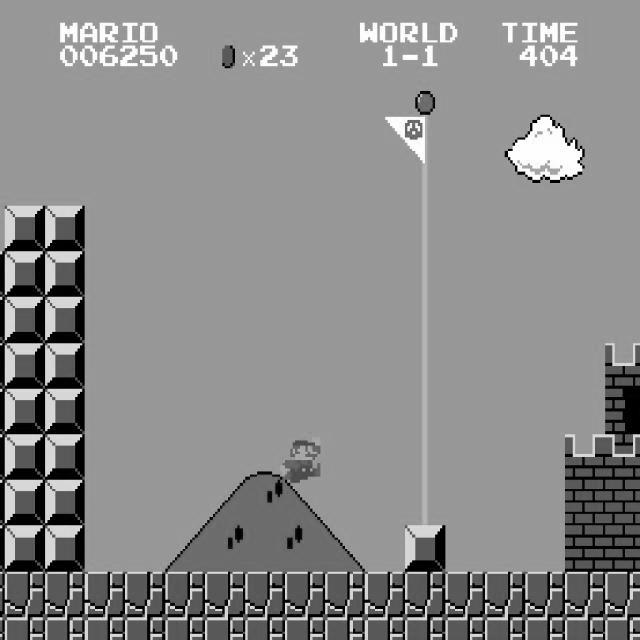11- little_mario: (277, 434, 320, 482)
17- undestructible_block: (44, 572, 86, 618), (84, 572, 126, 618), (124, 572, 166, 618), (164, 572, 206, 618), (204, 572, 246, 618), (244, 572, 286, 618), (284, 572, 326, 618), (324, 572, 366, 618), (364, 572, 406, 618), (404, 572, 446, 618), (444, 572, 486, 618), (484, 572, 526, 618), (524, 572, 566, 618), (564, 572, 606, 618), (5, 572, 46, 618), (605, 572, 640, 618), (44, 617, 86, 640), (84, 617, 126, 640), (124, 617, 166, 640), (164, 617, 206, 640), (204, 617, 246, 640), (244, 617, 286, 640), (284, 617, 326, 640), (324, 617, 366, 640), (364, 617, 406, 640), (404, 617, 446, 640), (444, 617, 486, 640), (484, 617, 526, 640), (524, 617, 566, 640), (564, 617, 606, 640), (5, 617, 46, 640), (605, 617, 640, 640), (0, 572, 5, 618), (0, 617, 5, 640)
7- goal_pole: (404, 68, 446, 114), (404, 114, 446, 160), (404, 160, 446, 206), (404, 252, 446, 298), (404, 297, 446, 343), (404, 388, 446, 434), (404, 434, 446, 480), (404, 480, 446, 526), (404, 206, 446, 251), (404, 343, 446, 388)
9- hard_block: (44, 252, 86, 298), (44, 297, 86, 343), (44, 388, 86, 434), (44, 434, 86, 480), (44, 480, 86, 526), (44, 526, 86, 572), (404, 526, 446, 572), (44, 206, 86, 251), (44, 343, 86, 388), (5, 252, 46, 298), (5, 297, 46, 343), (5, 388, 46, 434), (5, 434, 46, 480), (5, 480, 46, 526), (5, 526, 46, 572), (5, 206, 46, 251), (5, 343, 46, 388), (0, 252, 5, 298), (0, 297, 5, 343), (0, 388, 5, 434), (0, 434, 5, 480), (0, 480, 5, 526), (0, 526, 5, 572), (0, 343, 5, 388)
